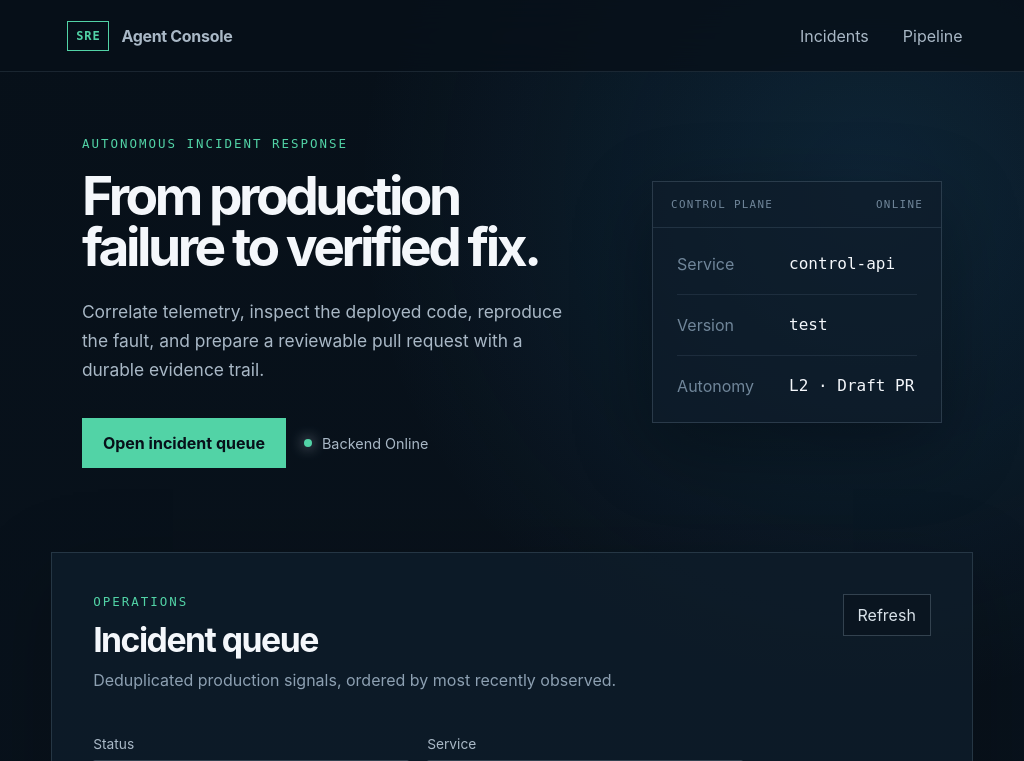
Test: App › keeps the last successful rows as stale when refresh fails
What coordinates should you click on to do the following:
click the button "Refresh"
I would click on:
 (887, 615)
Its box is [842,594,931,636].
(page scrolled)
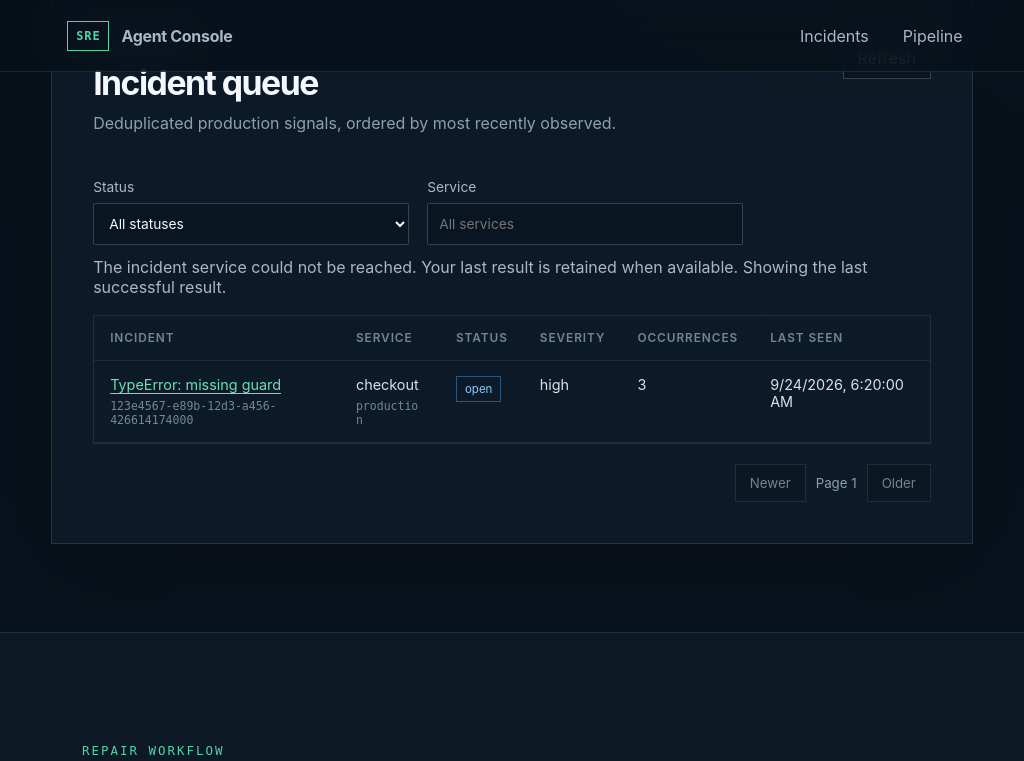
Check: the button "TypeError: missing guard" is shown, box [110,376,281,393]
Check: the text "last successful result" is shown, box [93,257,868,297]
